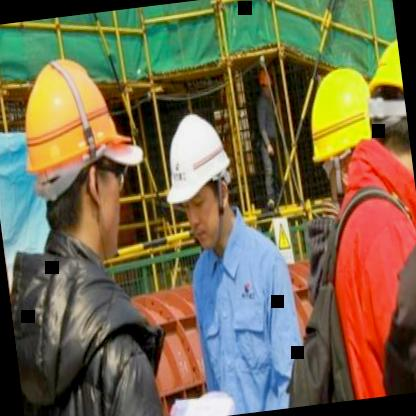helmet: (14, 47, 141, 266), (157, 106, 242, 253), (303, 63, 388, 200), (359, 21, 416, 210), (257, 66, 273, 96)
